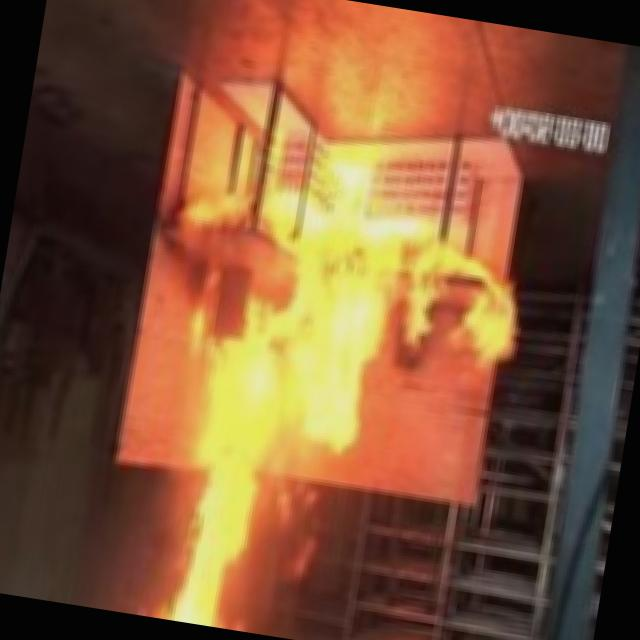fire: (106, 113, 537, 640)
